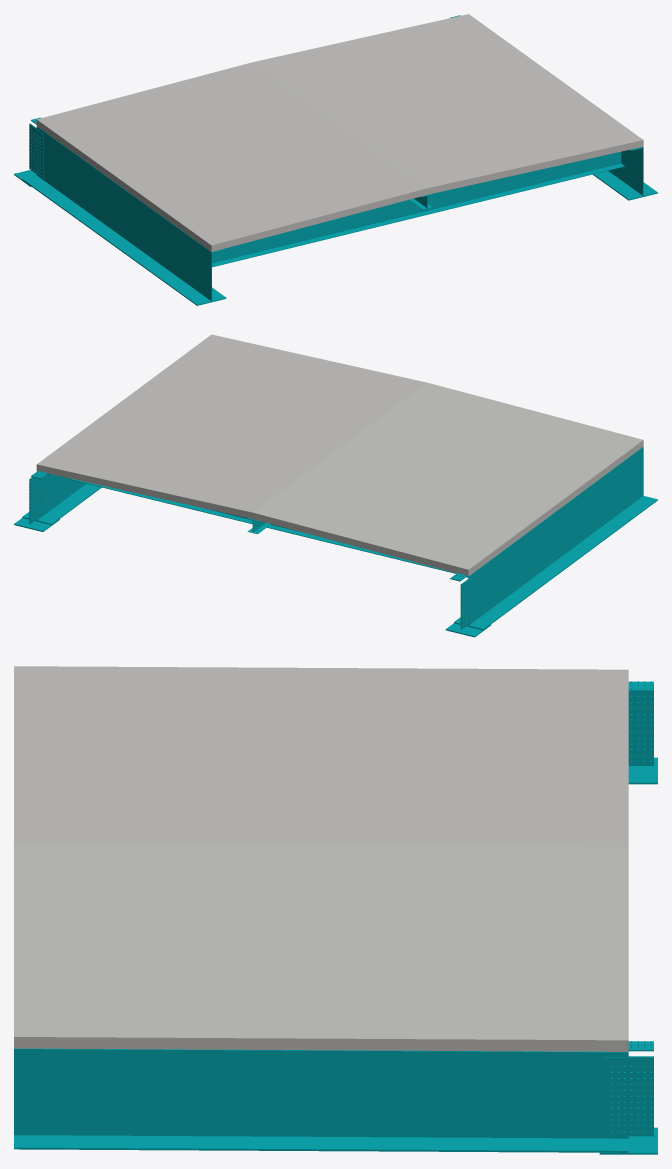
Rendered from DECK_SN04.glb.
3 renders of one model, top to bottom at view 1: azimuth 30°, elevation 25°; view 2: azimuth 150°, elevation 25°; view 3: azimuth 270°, elevation 25°, orthographic. The views are drawn at different scales.
Visible parts, largest first — view 1: SN04_Slab_15, SN04_G_W_0, SN04_FB_web_11, SN04_FB_bf_14, SN04_G_E_1, SN04_SpliceW_17; view 2: SN04_Slab_15, SN04_G_W_0, SN04_G_E_1, SN04_FB_bf_6, SN04_SpliceW_17, SN04_SpliceW_25; view 3: SN04_Slab_15, SN04_G_E_1, SN04_SpliceW_26, SN04_SpliceW_18.
Part boxes in pixels (x1=…): SN04_Slab_15: x1=36, y1=14, x2=643, y2=251; SN04_G_W_0: x1=22, y1=126, x2=226, y2=305; SN04_FB_web_11: x1=212, y1=151, x2=621, y2=263; SN04_FB_bf_14: x1=212, y1=163, x2=624, y2=267; SN04_G_E_1: x1=593, y1=147, x2=657, y2=200; SN04_SpliceW_17: x1=29, y1=124, x2=43, y2=178; SN04_Slab_15: x1=36, y1=334, x2=643, y2=576; SN04_G_W_0: x1=454, y1=447, x2=657, y2=630; SN04_G_E_1: x1=22, y1=471, x2=101, y2=524; SN04_FB_bf_6: x1=70, y1=478, x2=455, y2=573; SN04_SpliceW_17: x1=461, y1=574, x2=476, y2=629; SN04_SpliceW_25: x1=30, y1=477, x2=44, y2=524; SN04_Slab_15: x1=14, y1=666, x2=628, y2=1051; SN04_G_E_1: x1=14, y1=1048, x2=628, y2=1152; SN04_SpliceW_26: x1=603, y1=1057, x2=653, y2=1136; SN04_SpliceW_18: x1=628, y1=691, x2=653, y2=765.
Bounding box in the file's own units: 18.26 × 2.47 × 12.57.
